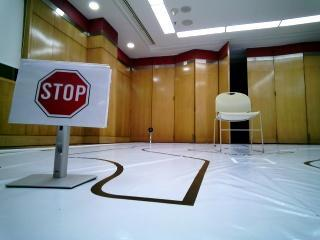stop: (14, 62, 98, 124)
